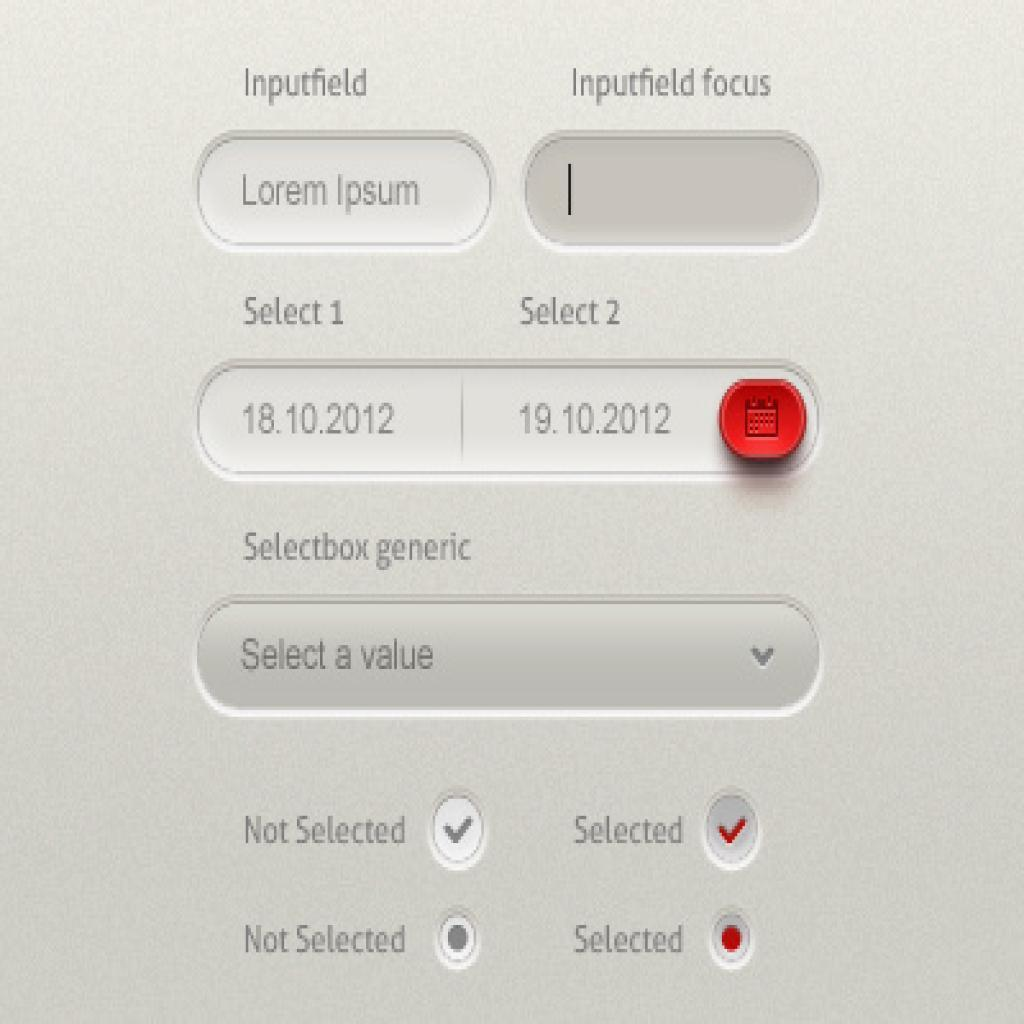dropdown: (200, 597, 822, 719)
input: (197, 362, 819, 485), (202, 130, 495, 253), (529, 130, 818, 251)
radio: (425, 786, 506, 891), (696, 781, 773, 874), (429, 904, 502, 985), (706, 904, 766, 976)
